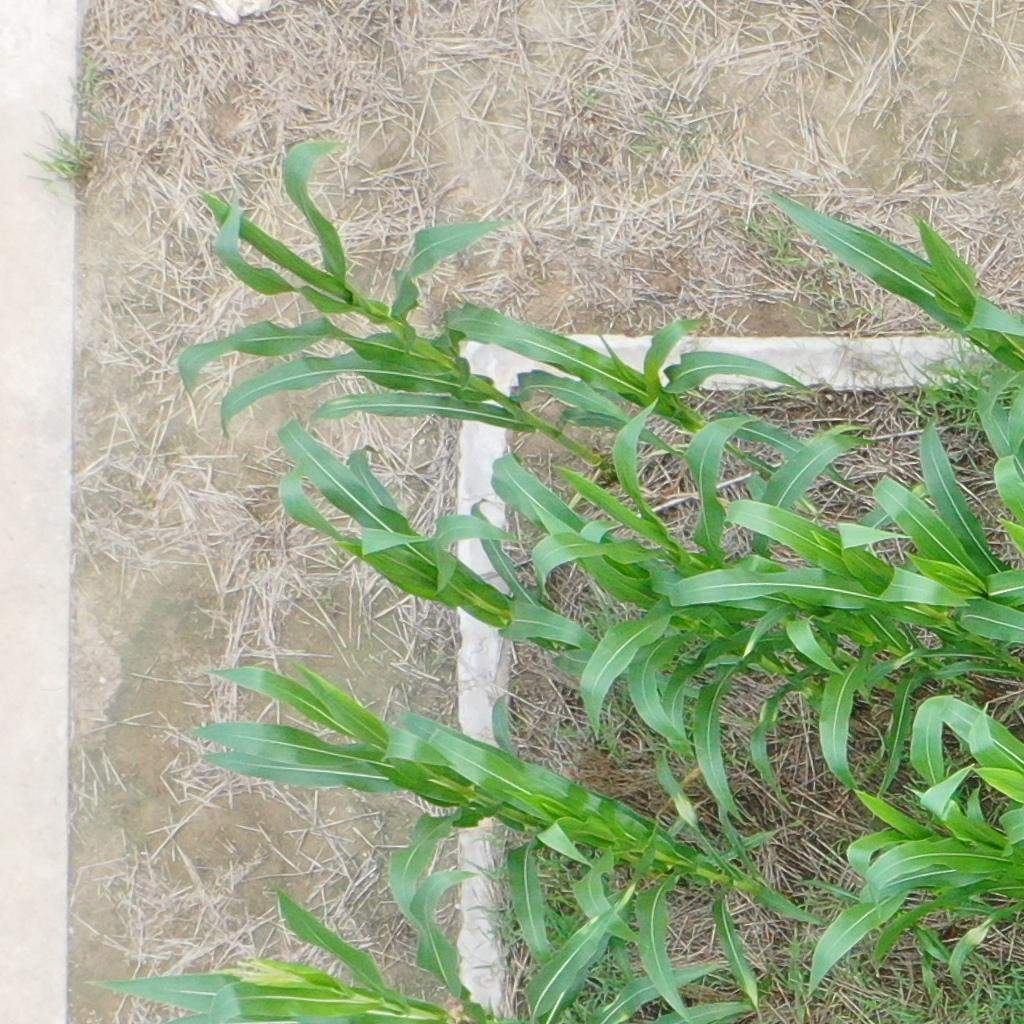Tassel: (204, 953, 311, 995)
